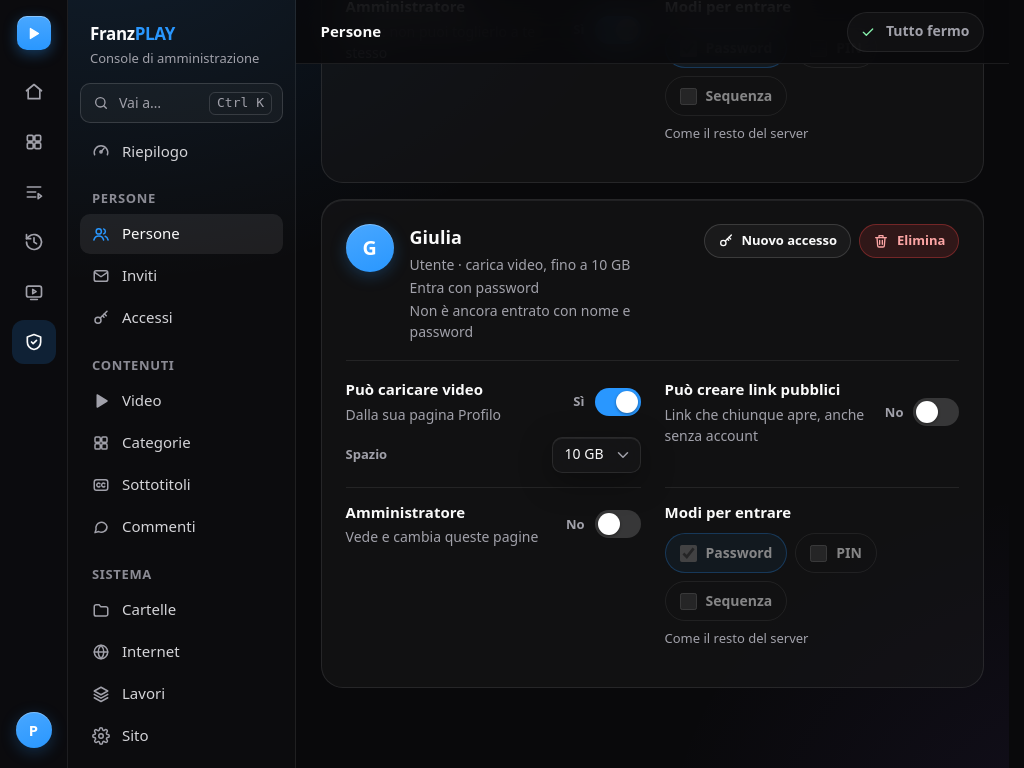
Test: people page › chooses how much space a person has for videos
The image size is (1024, 768).
(page scrolled)
Click the dropdown named "Spazio" at (596, 455), box [552,437,640,473]
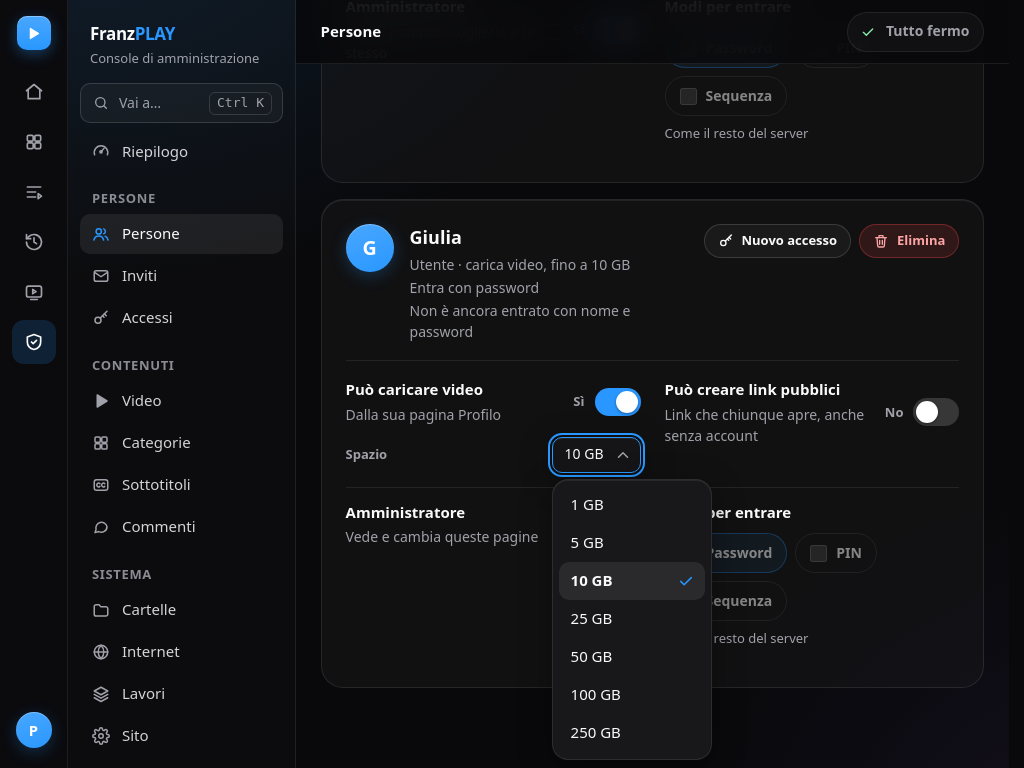
Click the option "50 GB" at (591, 656), box [570,646,612,666]
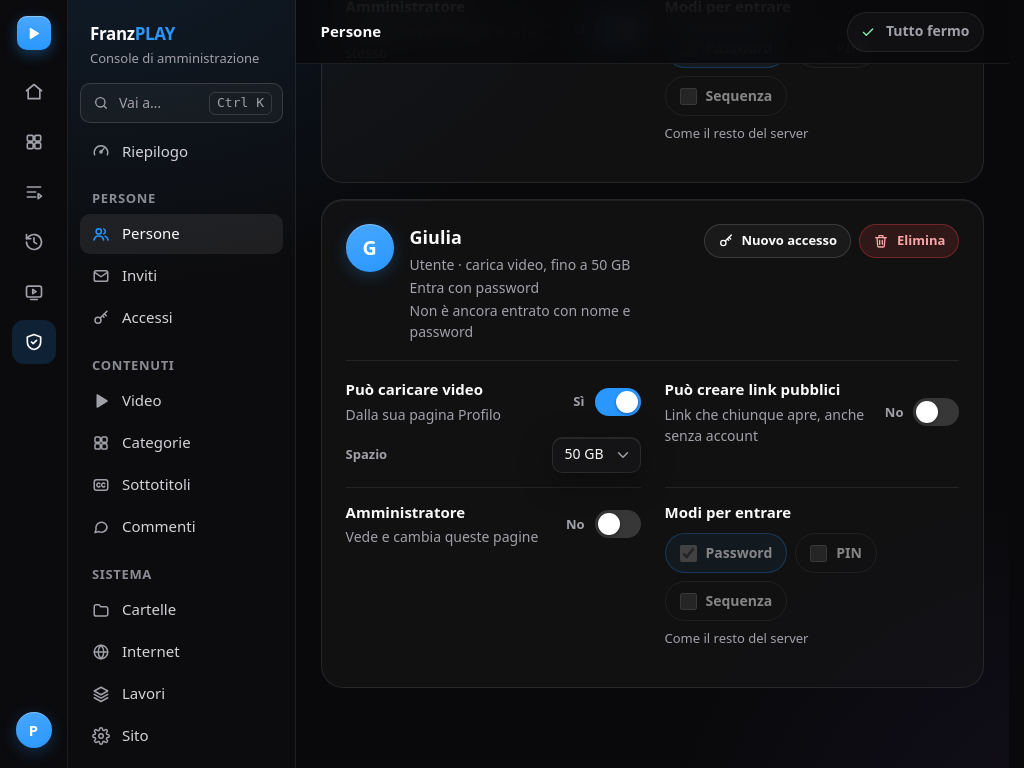
Expected: the text "Utente · carica video, fino a 50 GB" is shown, [410,255,630,274]
